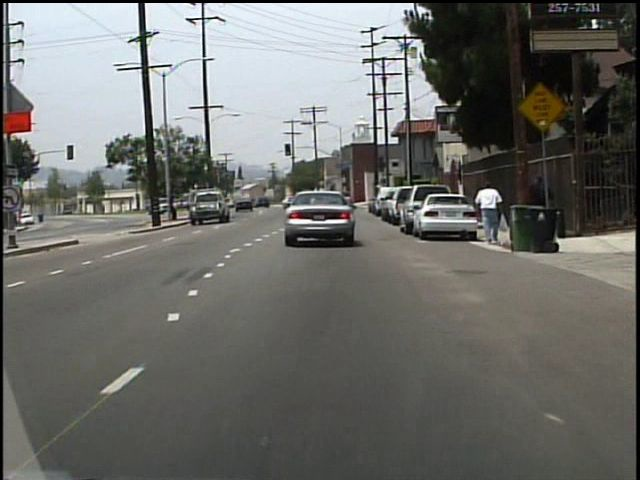person: (473, 181, 502, 248)
